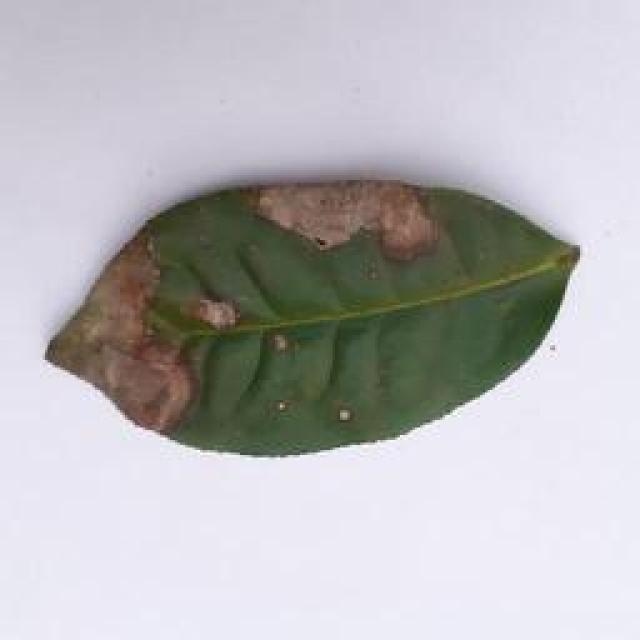Gray Blight: (43, 168, 591, 474)
